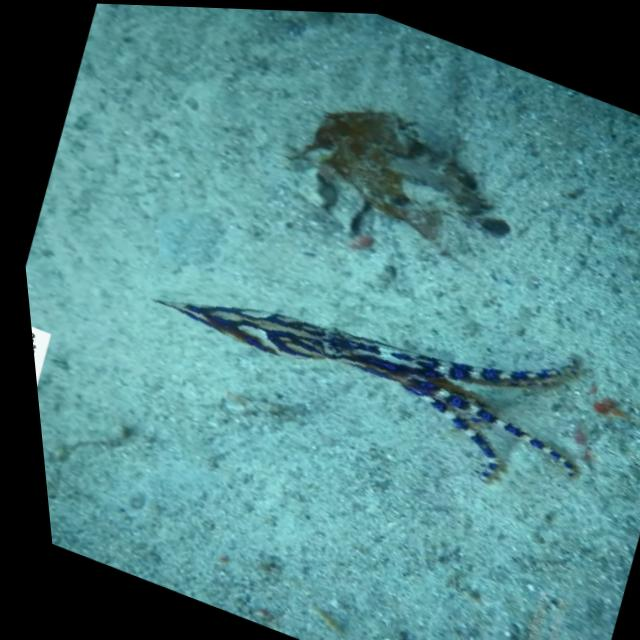blue_ringed_octopus: (112, 199, 613, 519)
